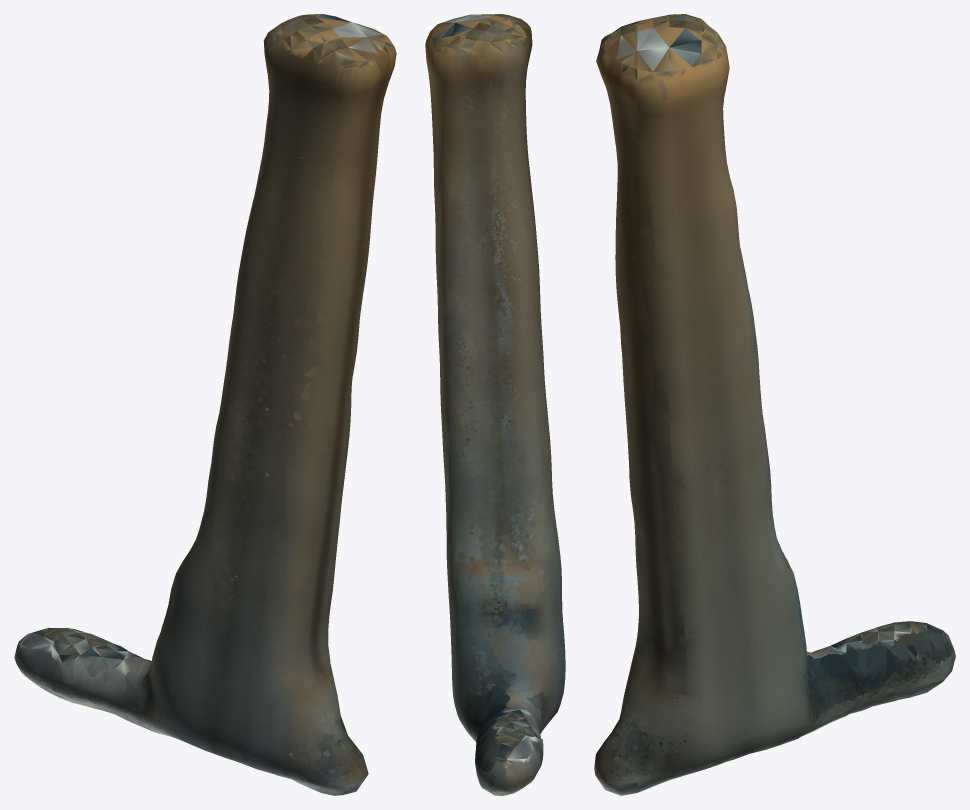
File: arm_new.obj
The picture shows the model from 3 angles, left to right: view 1: azimuth 30°, elevation 25°; view 2: azimuth 150°, elevation 25°; view 3: azimuth 270°, elevation 25°; orthographic projection. The views are drawn at different scales.
Size of the model in its own units: 0.1091 by 0.3233 by 0.1377.
Materials: 1 (1 with a texture image).
